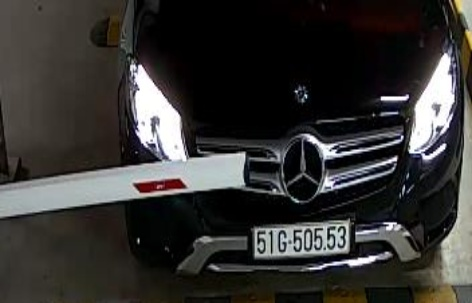plate: (248, 215, 350, 263)
